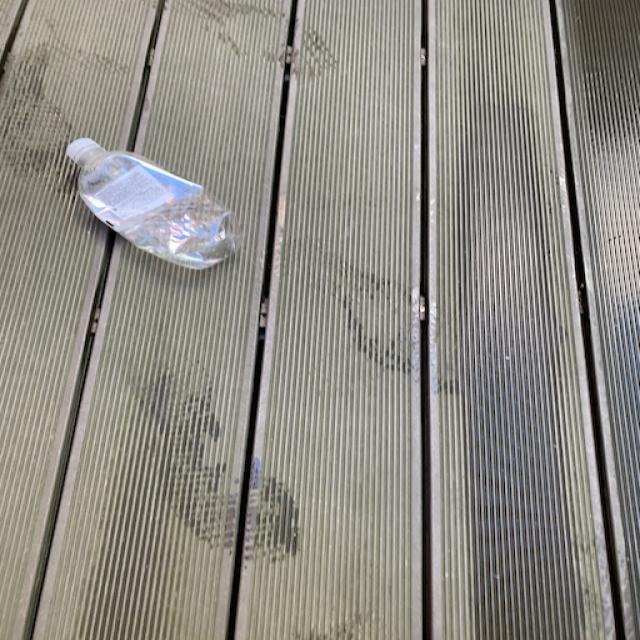Waste: (66, 138, 235, 268)
